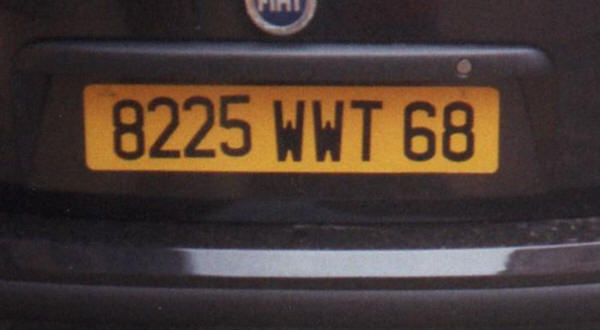license_plate: (82, 82, 501, 175)
